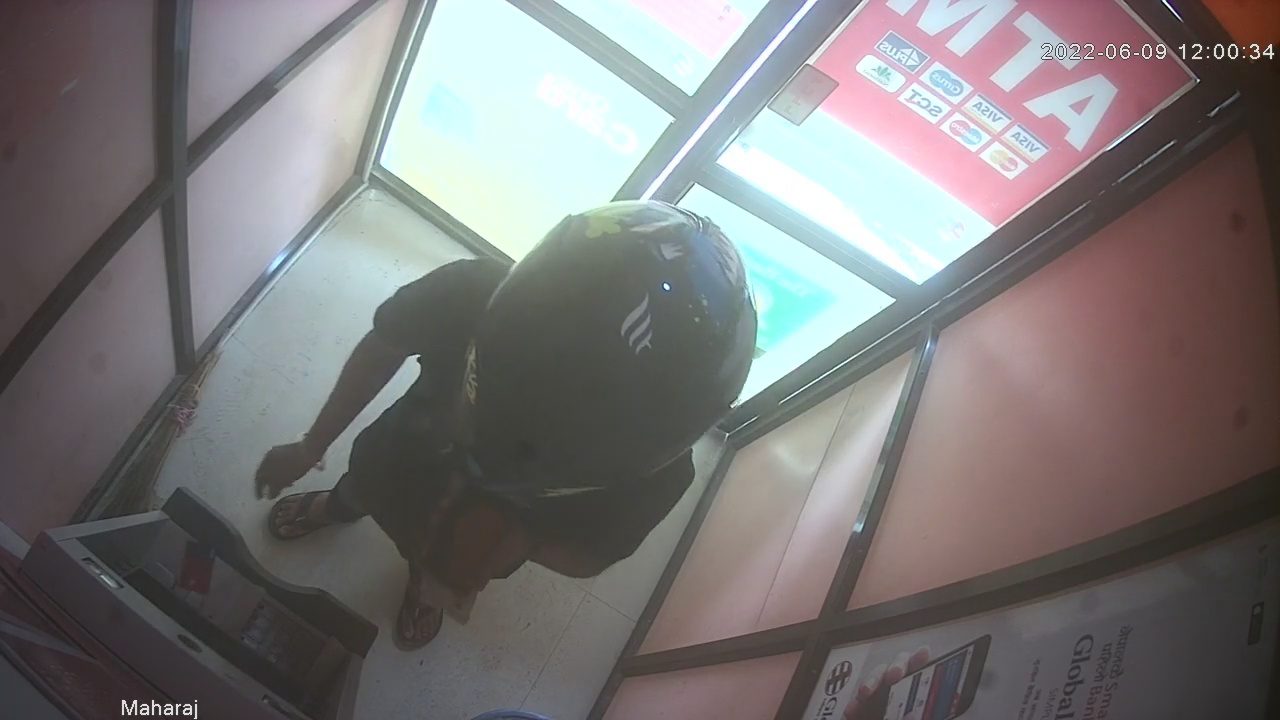helmet: (451, 198, 757, 505)
person: (252, 198, 758, 650)
